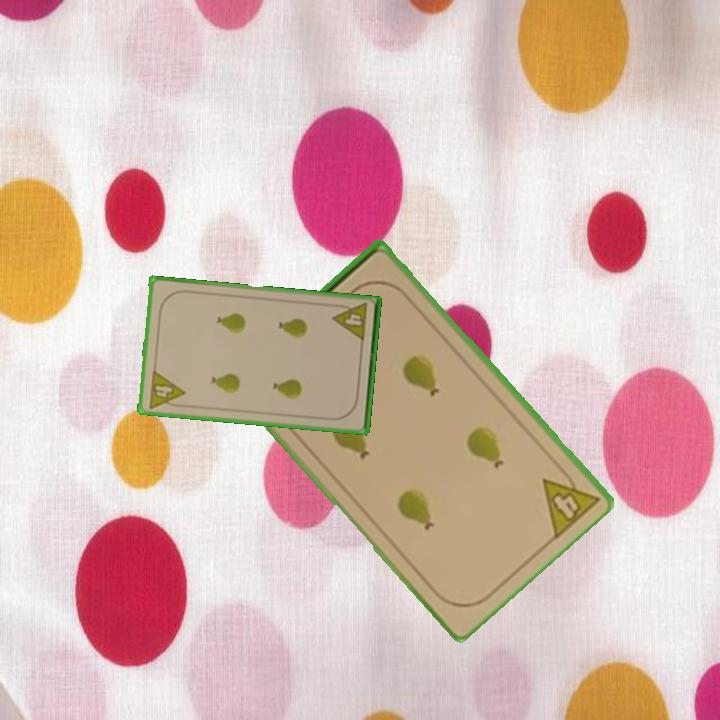4p: (539, 459, 602, 542), (145, 366, 187, 411), (329, 299, 370, 344)
